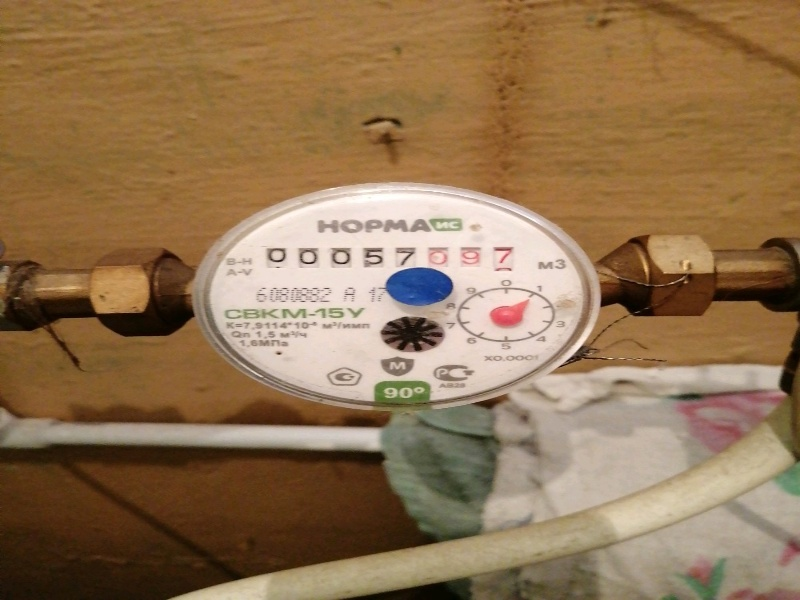meter: (262, 235, 522, 271)
